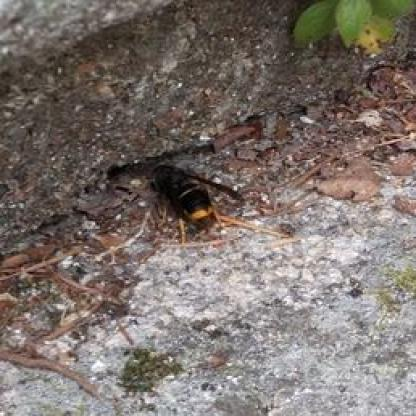Asian Hornet: (130, 152, 236, 252)
